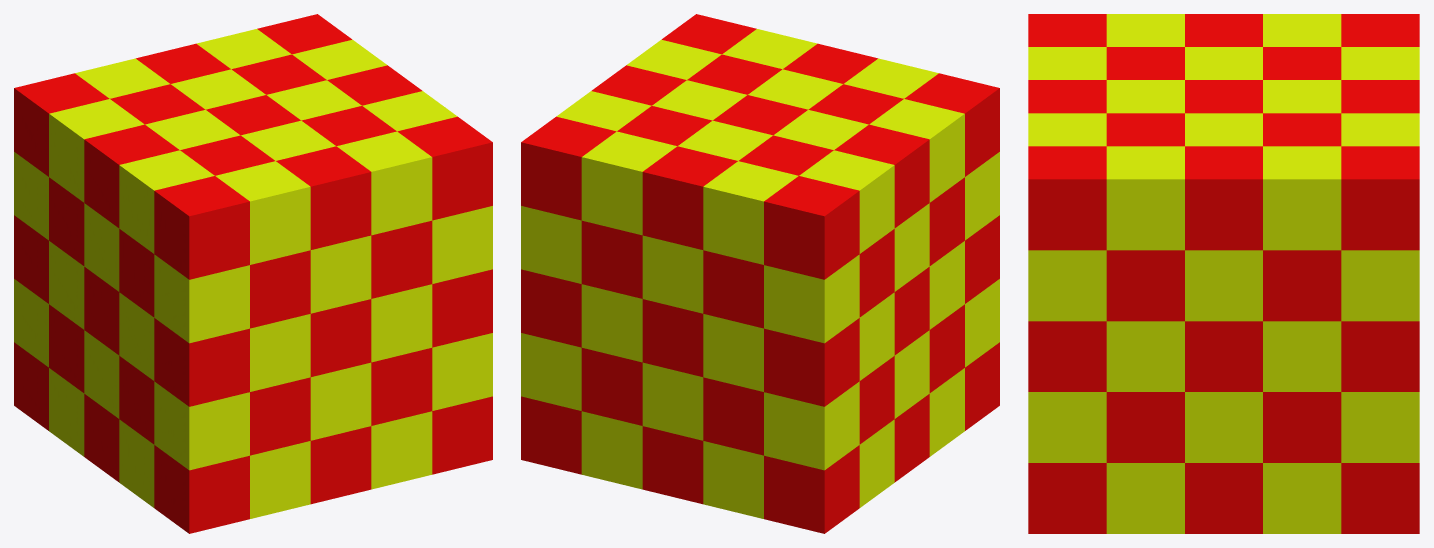
3 renders of one model, left to right at view 1: azimuth 30°, elevation 25°; view 2: azimuth 150°, elevation 25°; view 3: azimuth 270°, elevation 25°, orthographic. The views are drawn at different scales.
Visible parts, largest first — view 1: Объект_Куб; view 2: Объект_Куб; view 3: Объект_Куб.
Boxes of the visible parts, <box> form: Объект_Куб: <box>14,14,492,533</box>; Объект_Куб: <box>521,14,999,533</box>; Объект_Куб: <box>1028,14,1419,533</box>.
Bounding box in the file's own units: 1 × 1 × 1.
